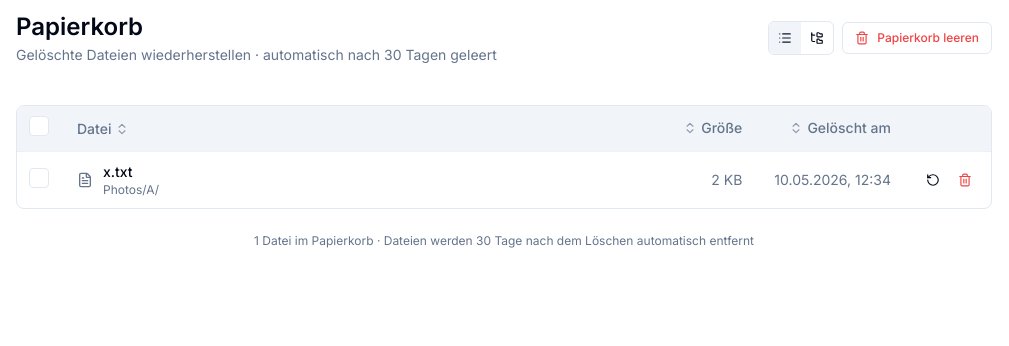
it: TrashPage — Tree-View › Datei-Knoten zeigen Größe und gelöscht-am-Datum
This screenshot has width=1009, height=346.
Click the button named "Ordneransicht".
click(817, 38)  # box x1=801 y1=22 x2=833 y2=54
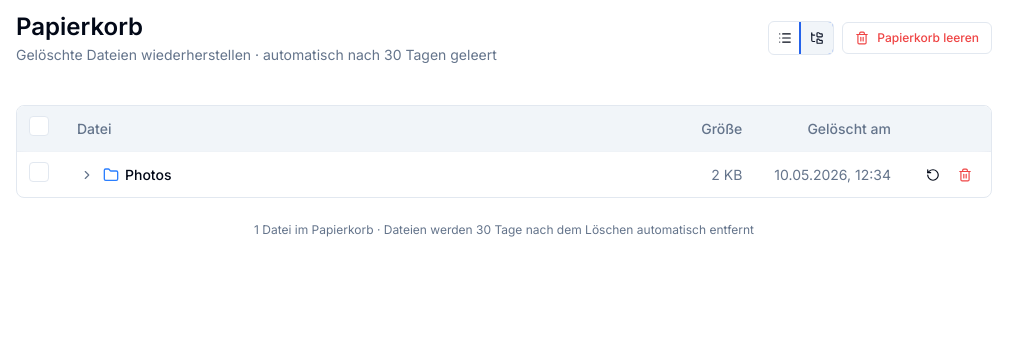
Click the button named "Aufklappen".
click(87, 174)  # box x1=77 y1=164 x2=97 y2=184
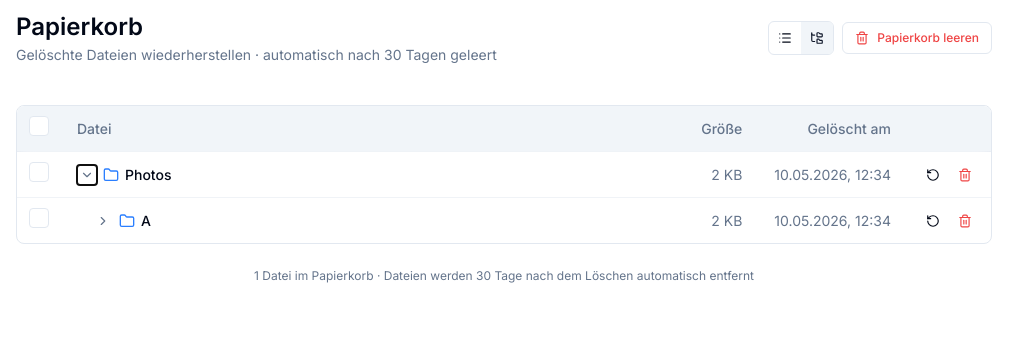
Click the button named "Aufklappen".
click(103, 220)  # box x1=93 y1=210 x2=113 y2=230
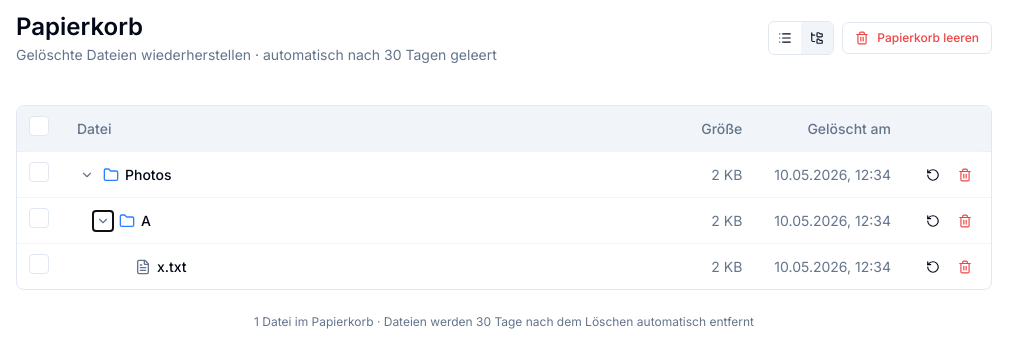
Now the text "2 KB" in the row of "x.txt" is shown, box x1=711 y1=258 x2=742 y2=274
Now the text "10.05.2026, 12:34" in the row of "x.txt" is shown, box x1=774 y1=258 x2=891 y2=274
